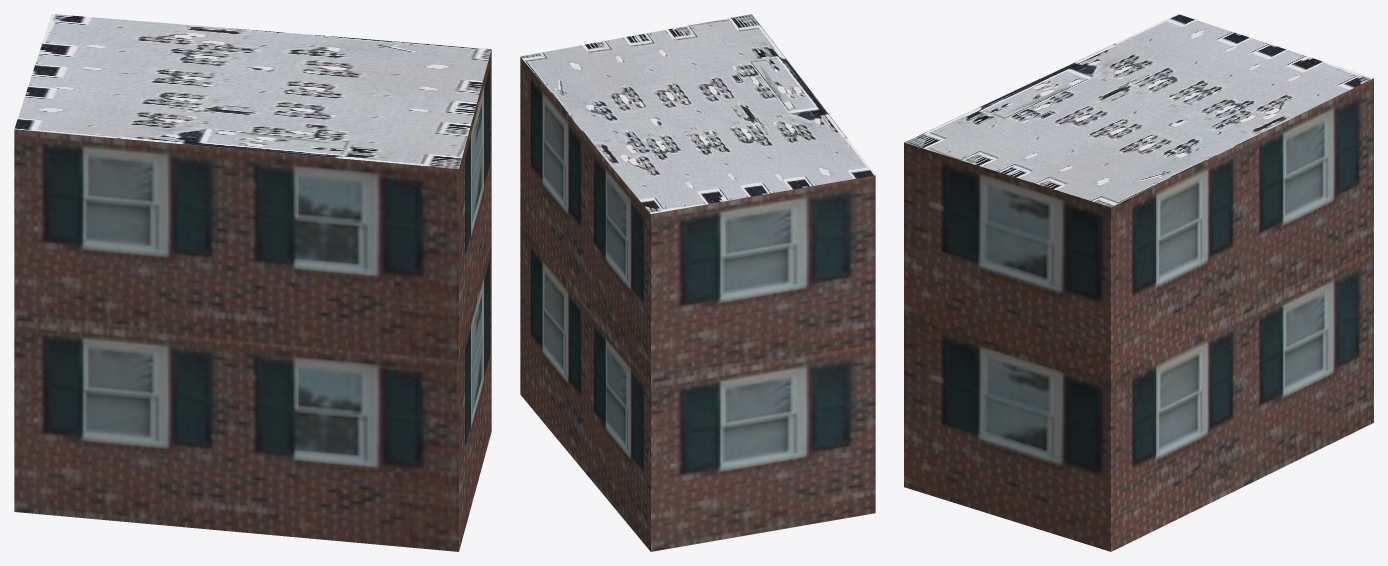
Rendered from ResTex__1391.fbx.
3 views of the same model, side by side, from view 1: azimuth 30°, elevation 25°; view 2: azimuth 150°, elevation 25°; view 3: azimuth 270°, elevation 25° (orthographic). The views are drawn at different scales.
Parts seen in each view (by area): view 1: CityEngineMaterial_14_m, CityEngineMaterial_2_m; view 2: CityEngineMaterial_14_m, CityEngineMaterial_2_m; view 3: CityEngineMaterial_14_m, CityEngineMaterial_2_m.
Boxes of the visible parts, <box> form: CityEngineMaterial_14_m: <box>14,50,491,551</box>; CityEngineMaterial_2_m: <box>14,14,491,169</box>; CityEngineMaterial_14_m: <box>520,57,875,551</box>; CityEngineMaterial_2_m: <box>520,14,875,213</box>; CityEngineMaterial_14_m: <box>904,78,1373,551</box>; CityEngineMaterial_2_m: <box>904,14,1373,207</box>.
Bounding box in the file's own units: 7.22 × 6 × 7.41.
2 materials, 2 textured.
